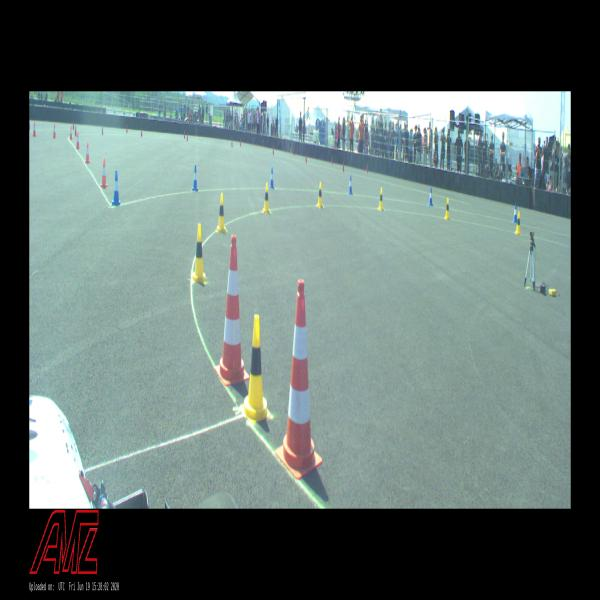blue_cone: (112, 170, 121, 205), (192, 165, 199, 191), (270, 167, 274, 189), (513, 204, 517, 223), (429, 188, 433, 206), (348, 176, 352, 194)
large_orange_cone: (275, 279, 322, 479), (214, 235, 249, 385)
orange_cone: (100, 158, 108, 188), (85, 142, 90, 163), (76, 132, 80, 148), (69, 125, 73, 140), (52, 124, 56, 138), (32, 123, 36, 136)
unknown_cone: (365, 162, 369, 173), (342, 161, 344, 172), (102, 125, 104, 135), (305, 153, 307, 163), (331, 155, 333, 165), (186, 132, 188, 140), (231, 139, 233, 147), (273, 146, 274, 155), (184, 130, 185, 138)
yellow_cone: (239, 314, 271, 424), (190, 224, 206, 285), (216, 193, 226, 232), (262, 182, 270, 213), (317, 182, 323, 208), (515, 211, 521, 235), (444, 198, 450, 219), (378, 188, 383, 210)
